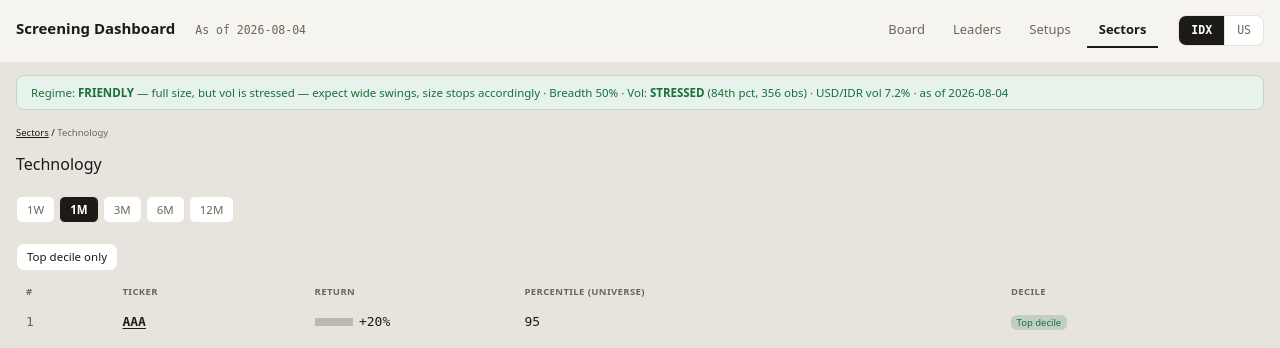
Test case: Sector detail — the member table (spec §5.5) › defaults the lookback to 1m and re-renders the decile badge on switch
Expected: the heading "Technology" is shown, [16,153,102,175]
Expected: the button "AAA" is shown, [122,312,146,331]
Switch to 3M, where the name is NOT top-decile: the badge re-renders away.
Click the radio button labelled "3M": [122, 210] box [103,196,142,223]
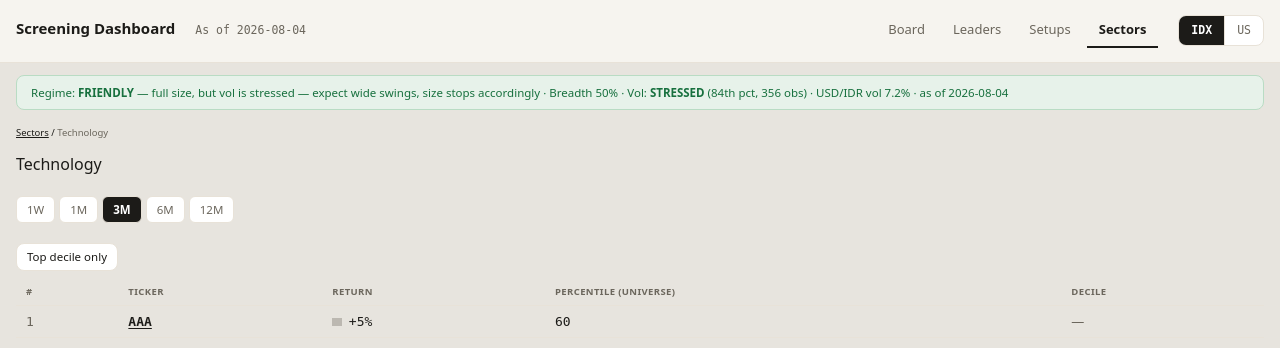
Expected: the text "+5%" is shown, [349,314,372,329]
